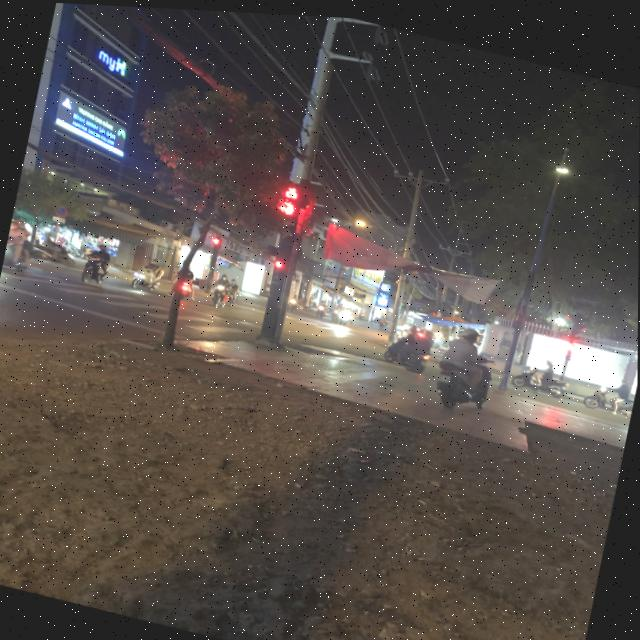Red: (266, 194, 302, 242), (265, 254, 288, 284)
